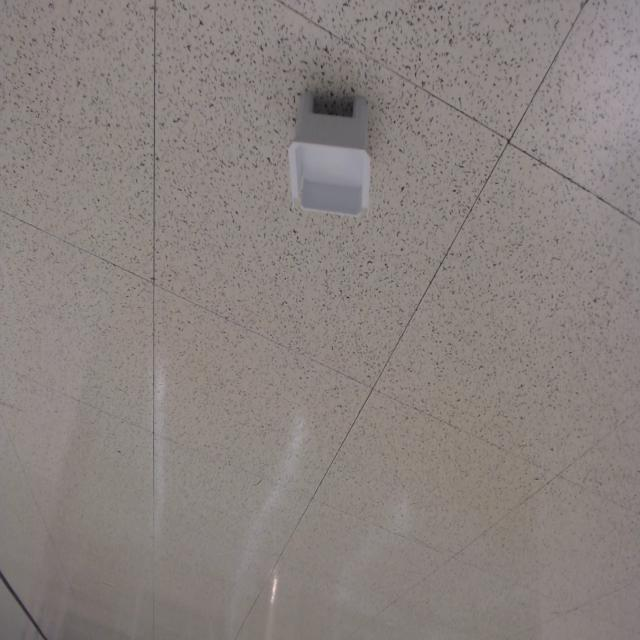wbox: (286, 86, 372, 220)
